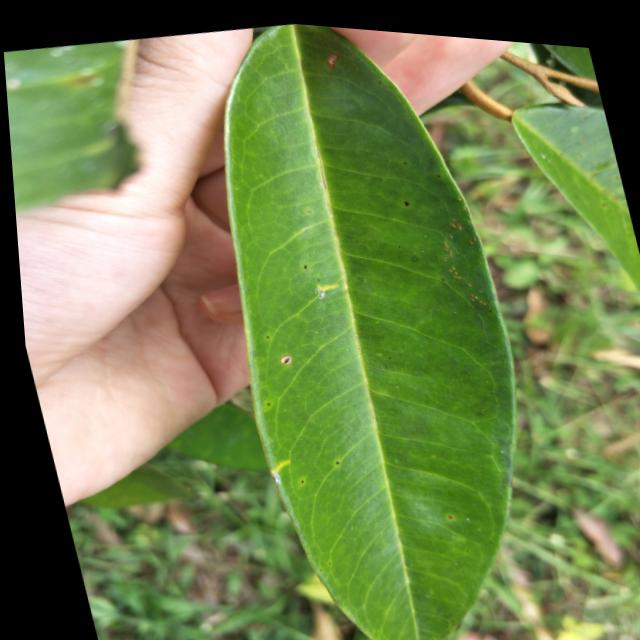Leaf Spot: (263, 341, 307, 373), (269, 460, 307, 489), (316, 442, 348, 476), (431, 493, 458, 527)
